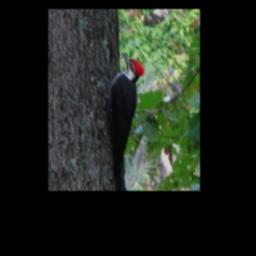Woodpecker: (98, 51, 147, 190)
